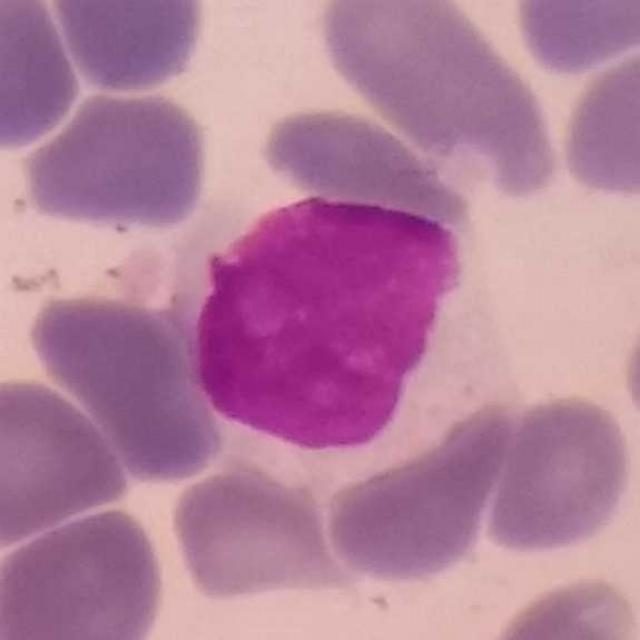Monocyte: (183, 174, 504, 488)
RBC: (312, 0, 566, 189), (20, 288, 229, 487), (316, 401, 521, 588), (17, 82, 216, 236), (476, 390, 639, 558), (252, 100, 474, 222), (165, 458, 344, 606), (0, 372, 134, 550), (0, 503, 171, 640), (45, 0, 214, 97), (556, 34, 640, 204), (0, 2, 85, 153), (477, 570, 640, 640), (507, 0, 639, 77), (616, 277, 640, 453)
